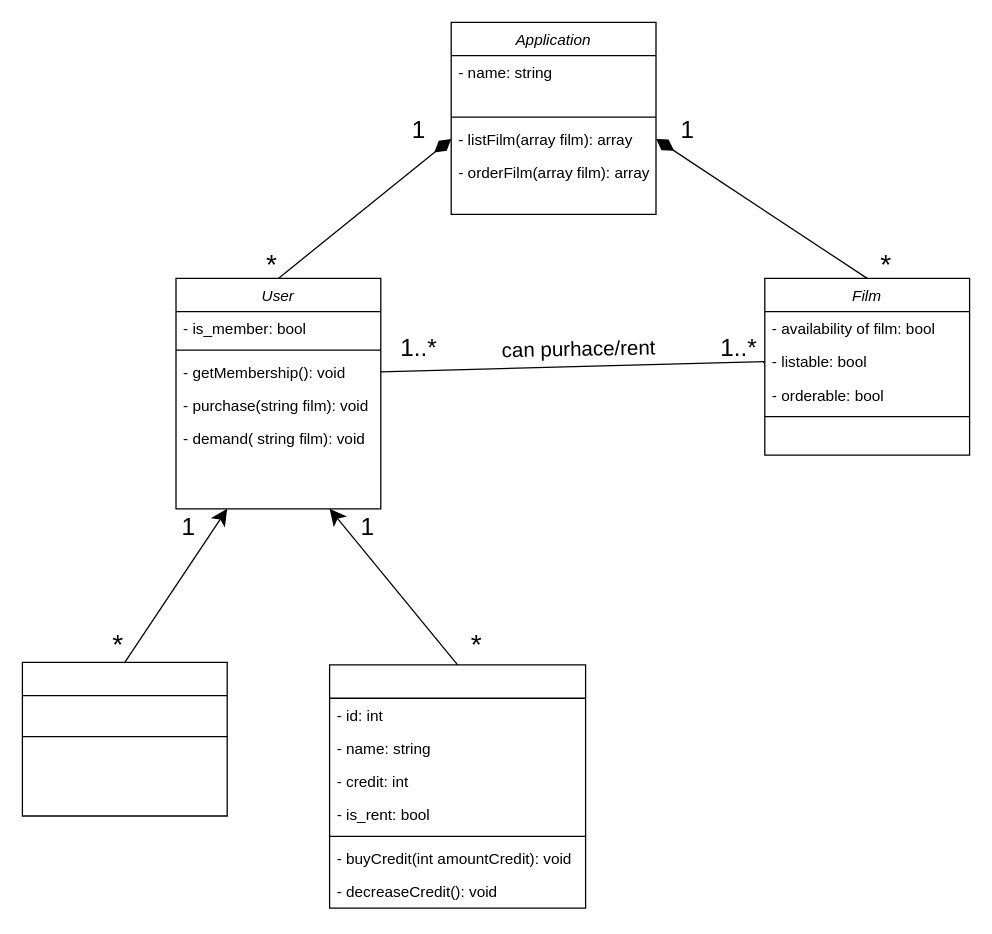
This 992x934 diagram has some shape labels left out. Each missing label, with the box of its shape:
Member User: (328, 664, 586, 908)
Normal User: (21, 661, 227, 816)
